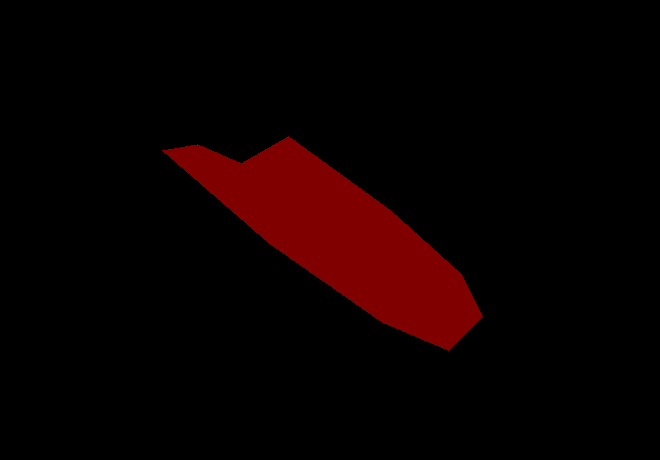fire: (162, 136, 482, 350)
